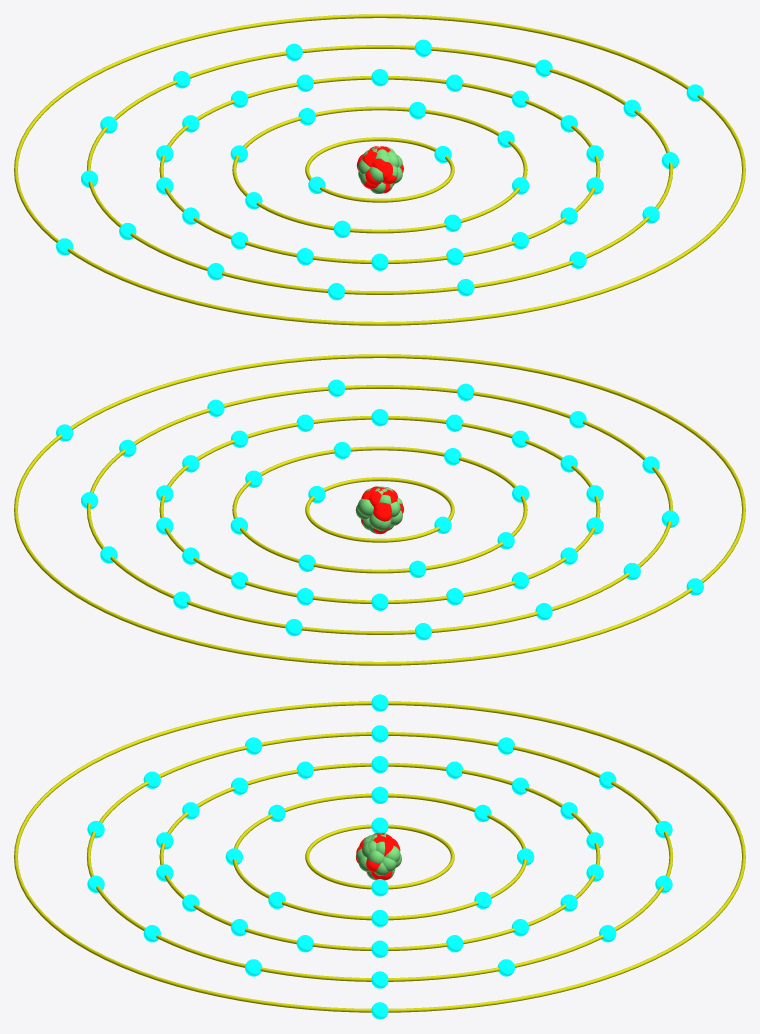
Rendered from atomo_44.glb.
The picture shows the model from 3 angles, top to bottom: view 1: azimuth 30°, elevation 25°; view 2: azimuth 150°, elevation 25°; view 3: azimuth 270°, elevation 25°; orthographic projection.
Parts seen in each view (by area): view 1: orbital_5, orbital_4, orbital_3, orbital_2, orbital_1; view 2: orbital_5, orbital_4, orbital_3, orbital_2, orbital_1; view 3: orbital_5, orbital_4, orbital_3, orbital_2, orbital_1.
Part boxes in pixels (x1,y1,x2,y2): orbital_5: [14, 14, 745, 325]; orbital_4: [87, 45, 672, 294]; orbital_3: [159, 76, 600, 263]; orbital_2: [232, 106, 527, 233]; orbital_1: [305, 137, 454, 202]; orbital_5: [14, 354, 745, 665]; orbital_4: [87, 385, 672, 634]; orbital_3: [159, 416, 600, 603]; orbital_2: [232, 446, 527, 573]; orbital_1: [305, 477, 454, 542]; orbital_5: [14, 701, 745, 1012]; orbital_4: [87, 732, 672, 981]; orbital_3: [159, 763, 600, 950]; orbital_2: [232, 793, 527, 920]; orbital_1: [305, 824, 454, 889].
Bounding box in the file's own units: 15.36 × 0.9998 × 15.08.
